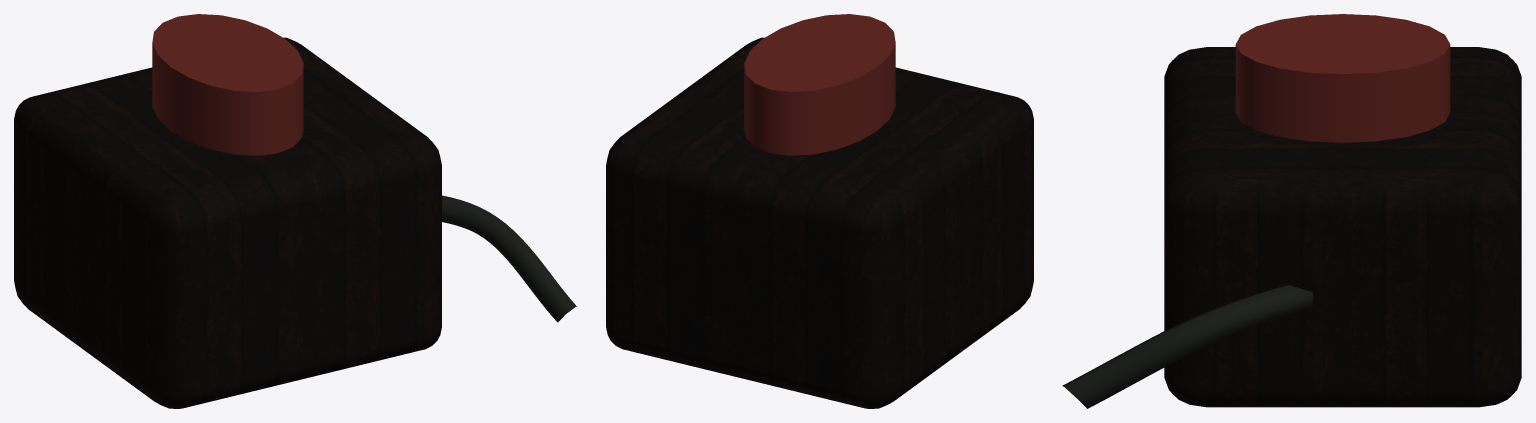
The picture shows the model from 3 angles, left to right: view 1: azimuth 30°, elevation 25°; view 2: azimuth 150°, elevation 25°; view 3: azimuth 270°, elevation 25°; orthographic projection. The views are drawn at different scales.
Parts seen in each view (by area): view 1: b-shutter; view 2: b-shutter; view 3: b-shutter.
Boxes of the visible parts, bbox=[...] form: b-shutter: bbox=[14, 14, 576, 408]; b-shutter: bbox=[606, 14, 1033, 408]; b-shutter: bbox=[1062, 14, 1521, 408].
Bounding box in the file's own units: 0.14 × 0.1 × 0.14.
3 materials, 1 textured.
